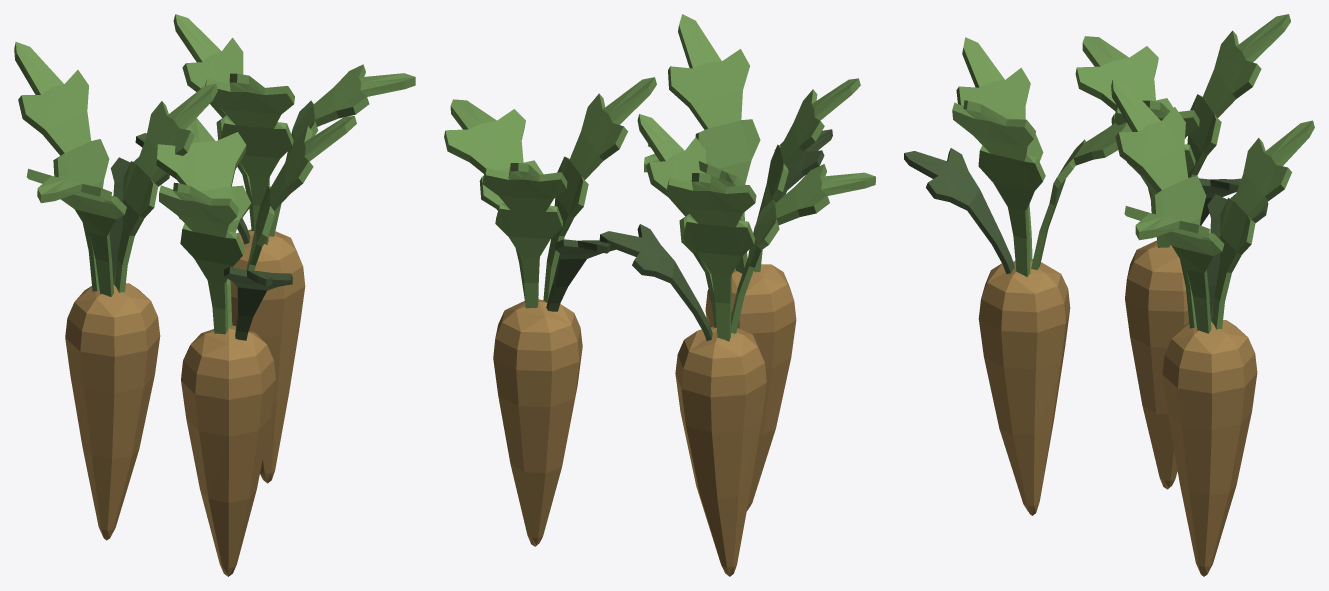
File: crop_carrot.s4.glb
3 renders of one model, left to right at view 1: azimuth 30°, elevation 25°; view 2: azimuth 150°, elevation 25°; view 3: azimuth 270°, elevation 25°, orthographic.
Size of the model in its own units: 0.9108 by 1 by 0.8077.
